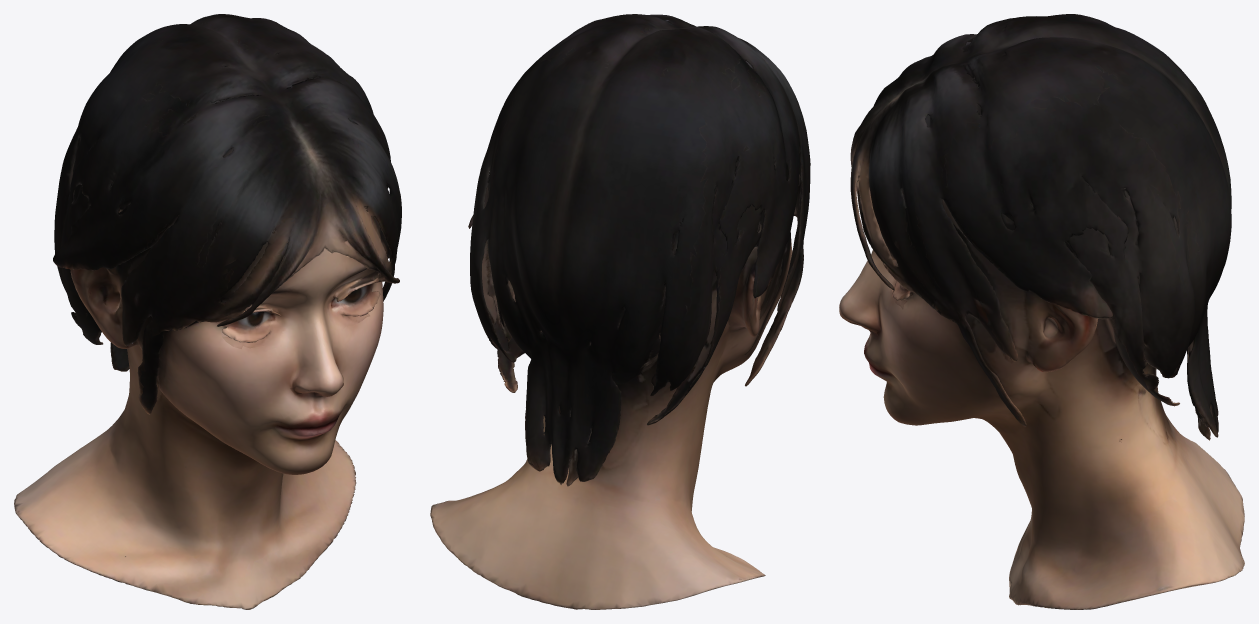
File: asian-female-head.glb
The picture shows the model from 3 angles, left to right: view 1: azimuth 30°, elevation 25°; view 2: azimuth 150°, elevation 25°; view 3: azimuth 270°, elevation 25°; orthographic projection. The views are drawn at different scales.
Bounding box in the file's own units: 1.18 × 2 × 1.31.
Materials: 1 (1 with a texture image).
